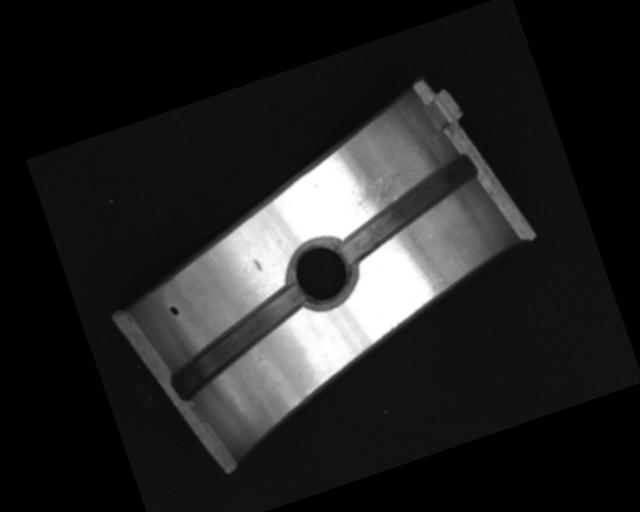blot: (167, 303, 180, 318)
bruise: (253, 257, 263, 272)
gap: (153, 283, 321, 401), (324, 150, 493, 265)
hole: (279, 233, 362, 315)
scratch: (336, 151, 430, 219)
